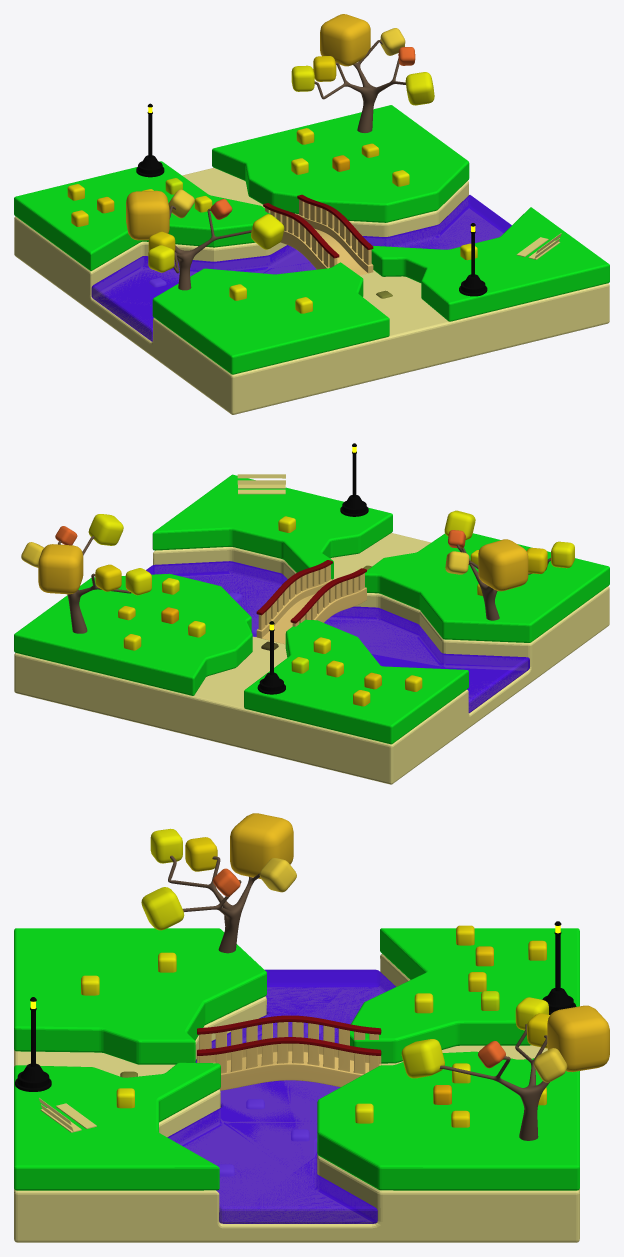
The model's file is Park.fbx.
The picture shows the model from 3 angles, top to bottom: view 1: azimuth 30°, elevation 25°; view 2: azimuth 150°, elevation 25°; view 3: azimuth 270°, elevation 25°; orthographic projection. The views are drawn at different scales.
Parts seen in each view (by area): view 1: Plane.001, Plane, Plane.002, Cube.036, Cube.027, Cube.033, Vert, Cube.037, Vert.001, Cube.031, Cube.025, Circle (+4 smaller); view 2: Plane.001, Plane, Plane.002, Cube.036, Cube.033, Cube.027, Cube.037, Cube.025, Vert, Circle.001, Circle, Vert.001 (+8 smaller); view 3: Plane.001, Plane, Plane.002, Cube.036, Cube.027, Cube.033, Cube.037, Vert, Vert.001, Cube.025, Cube.031, Circle.001 (+8 smaller).
Part boxes in pixels (x1,y1,x2,y2): Plane.001: (14,105,609,374); Plane: (14,168,609,414); Plane.002: (91,195,511,341); Cube.036: (265,199,373,275); Cube.027: (320,14,370,66); Cube.033: (126,190,169,240); Vert: (314,40,405,132); Cube.037: (263,194,373,258); Vert.001: (169,205,251,290); Cube.031: (251,214,284,249); Cube.025: (405,72,434,105); Circle: (136,103,164,177); Plane.001: (14,474,609,744); Plane: (14,533,609,784); Plane.002: (146,561,529,713); Cube.036: (256,565,366,644); Cube.033: (478,539,528,591); Cube.027: (38,544,83,594); Cube.037: (256,560,366,623); Cube.025: (88,514,123,545); Vert: (58,536,131,633); Circle.001: (340,443,368,516); Circle: (257,621,285,694); Vert.001: (456,544,550,620); Plane.001: (14,928,579,1190); Plane: (14,954,579,1242); Plane.002: (167,969,395,1223); Cube.036: (197,1022,381,1090); Cube.027: (547,1005,609,1072); Cube.033: (230,813,293,878); Cube.037: (197,1015,381,1055); Vert: (439,1024,549,1140); Vert.001: (168,855,259,953); Cube.025: (401,1039,444,1078); Cube.031: (141,887,184,930); Circle.001: (15,997,51,1091).
Size of what is drawn, in the model's own units: 847 by 320 by 843.
